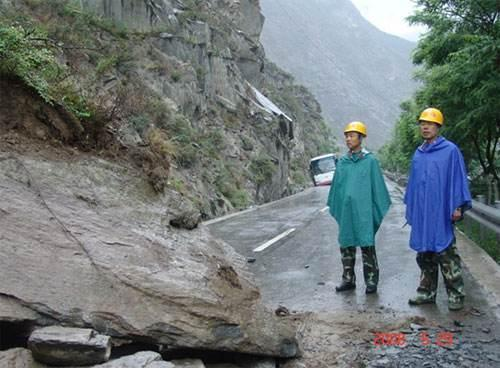Boots: (414, 104, 449, 129), (340, 118, 372, 137)
Ear-protection: (398, 135, 474, 253)
